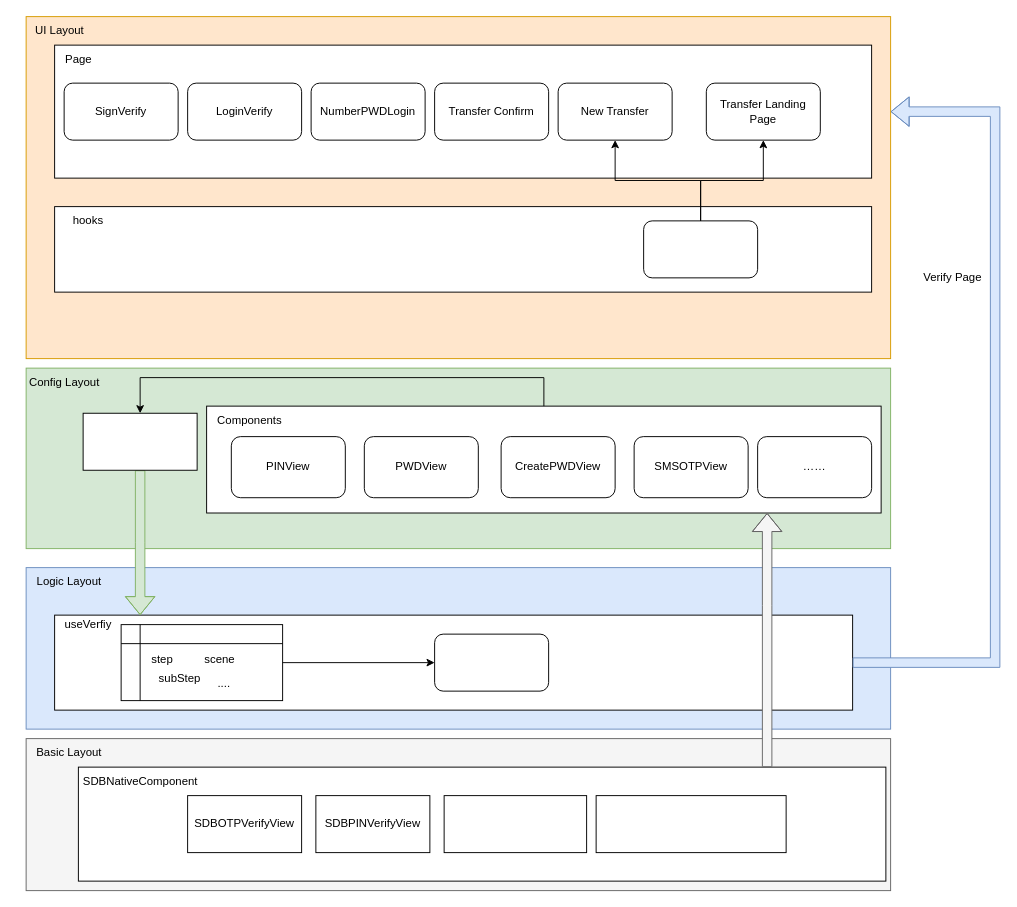
The diagram is 1017 pixels wide and 907 high, and some of its shapes have lost their labels. Each missing label, with the centre of its shape:
AuthView: point (491, 662)
SceneConfig: point (139, 441)
SDBPasswordVerifyView: point (515, 824)
SDBPasswrodCreateVerifyView: point (690, 824)
usePayeeCheck: point (700, 249)
